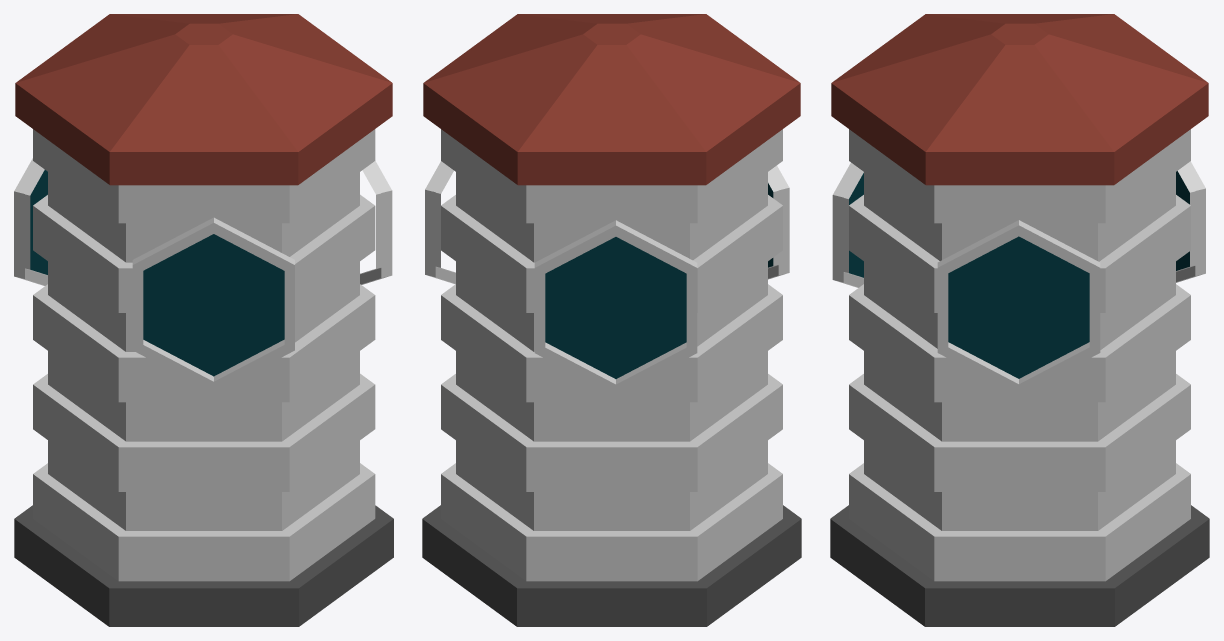
Rendered from SILO.fbx.
3 views of the same model, side by side, from view 1: azimuth 30°, elevation 25°; view 2: azimuth 150°, elevation 25°; view 3: azimuth 270°, elevation 25° (orthographic).
Visible parts, largest first — view 1: Silo; view 2: Silo; view 3: Silo.
Part boxes in pixels (x1=…): Silo: x1=14, y1=14, x2=393, y2=626; Silo: x1=422, y1=14, x2=801, y2=626; Silo: x1=830, y1=14, x2=1209, y2=626.
Size of the model in its own units: 29.09 by 50.27 by 33.06.
